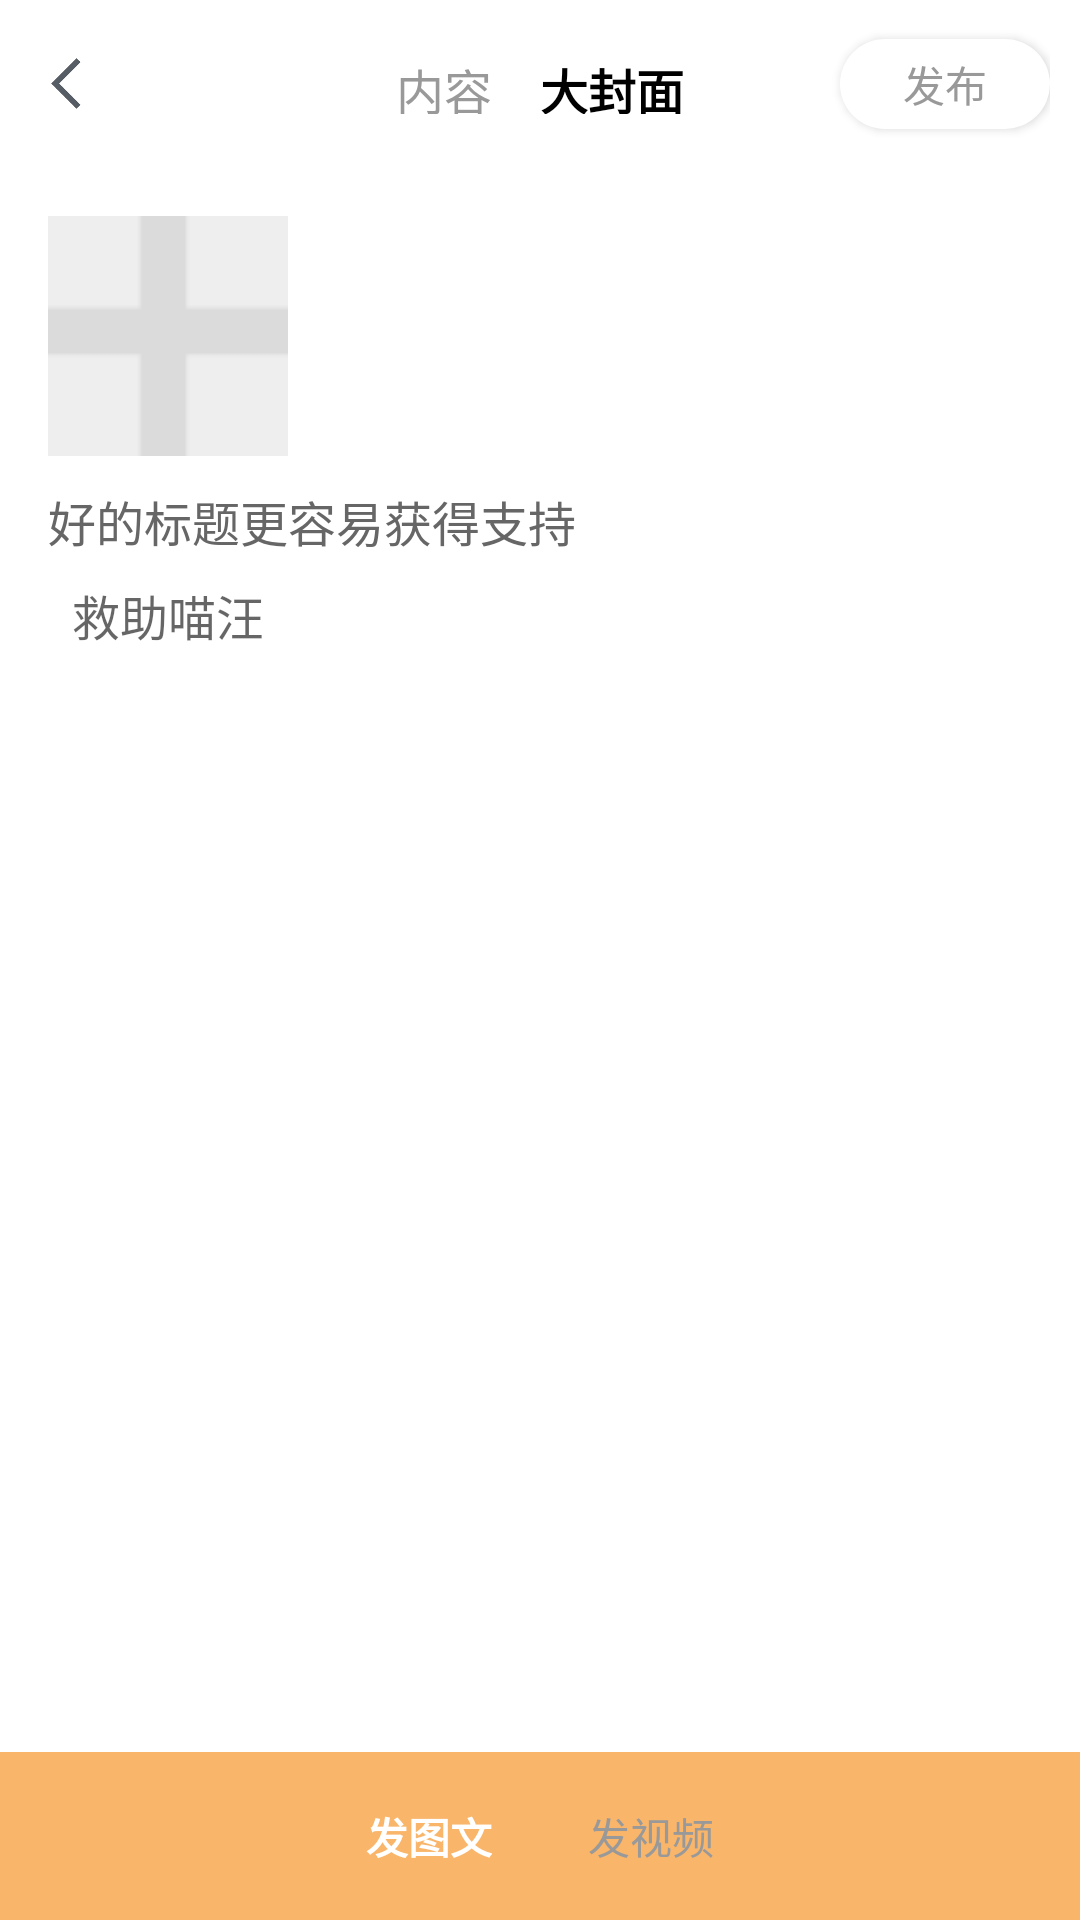

Icon bounding boxes for this 1080 × 1920 phone screenshot, format (x1, y1, x2, y2):
back: (51, 58, 80, 109)
